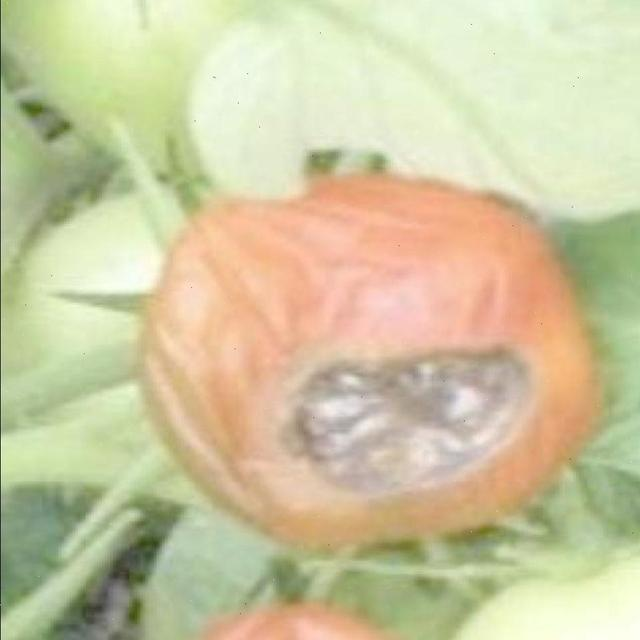Blossom End Rot Fruit: (183, 228, 361, 332)
